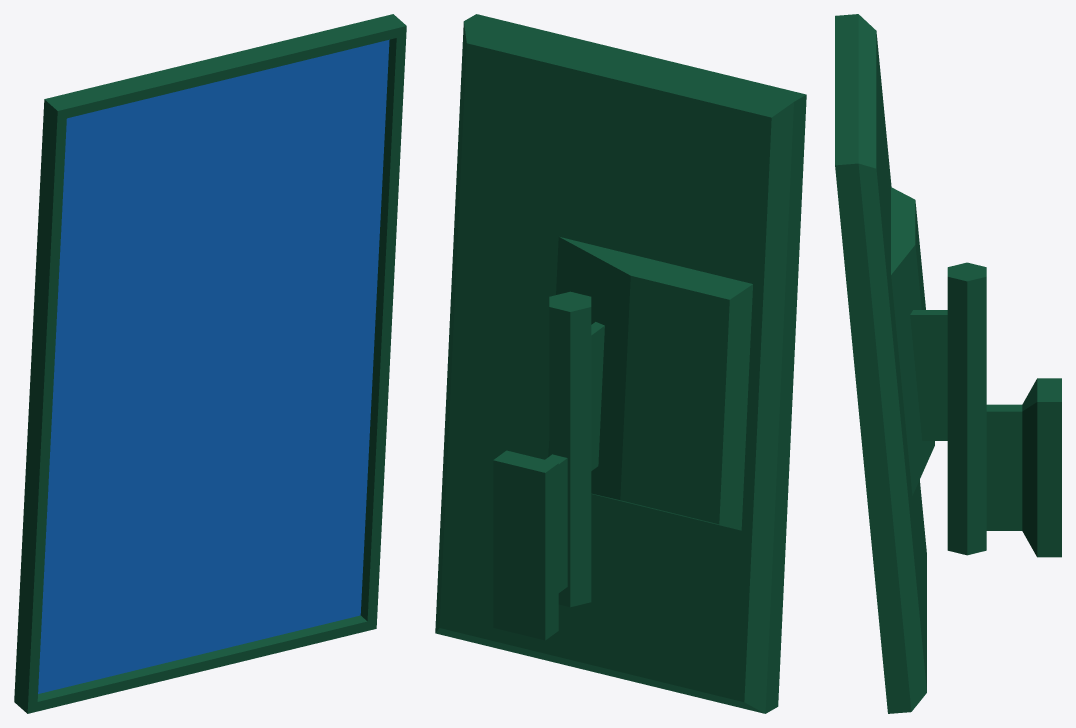
Rendered from T_indoor_billboard.fbx.
3 views of the same model, side by side, from view 1: azimuth 30°, elevation 25°; view 2: azimuth 150°, elevation 25°; view 3: azimuth 270°, elevation 25° (orthographic). The views are drawn at different scales.
Parts seen in each view (by area): view 1: indoor_billboard; view 2: indoor_billboard; view 3: indoor_billboard.
Boxes of the visible parts, x1,y1,x2,y2 form: indoor_billboard: (14, 14, 406, 713); indoor_billboard: (435, 14, 806, 713); indoor_billboard: (835, 14, 1061, 713).
Size of the model in its own units: 53.8 by 92.35 by 34.51.
